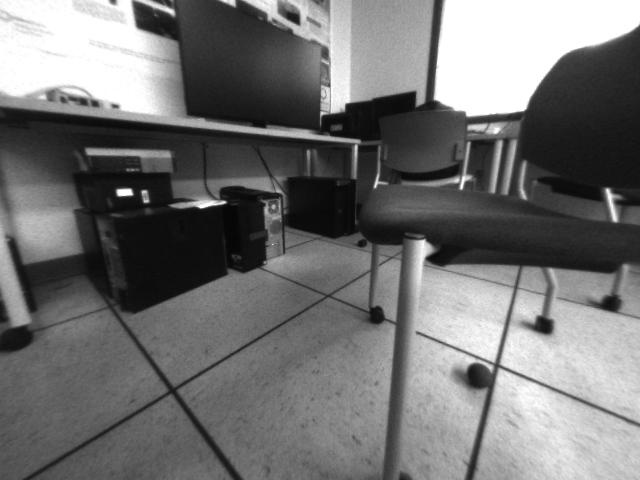dogtoy: (462, 356, 501, 392)
